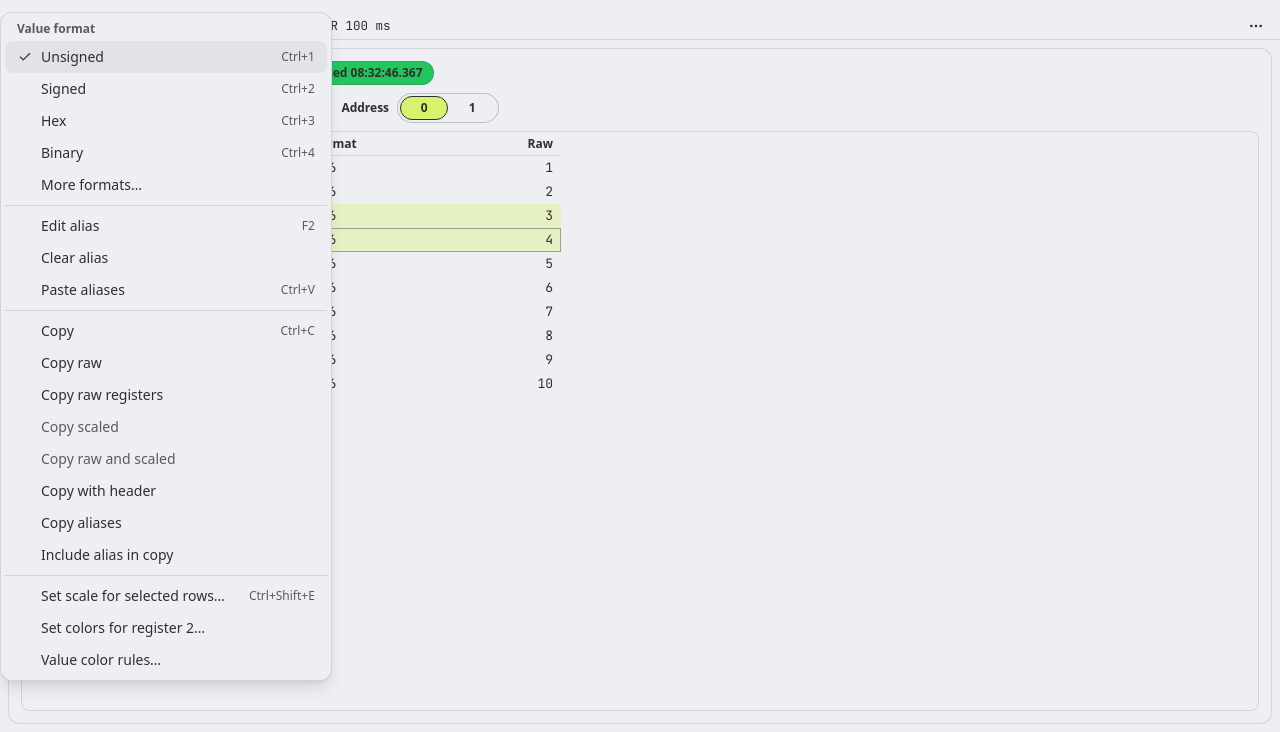
Test case: Value format section of the row menu in workspace › Hex on rows 2-3 sets the selection without a dialog and sends no Modbus request
What coordinates should you click on to do the following:
click the menu item "Hex Ctrl+3"
I would click on:
 (298, 120)
Its box is left=5, top=105, right=327, bottom=137.
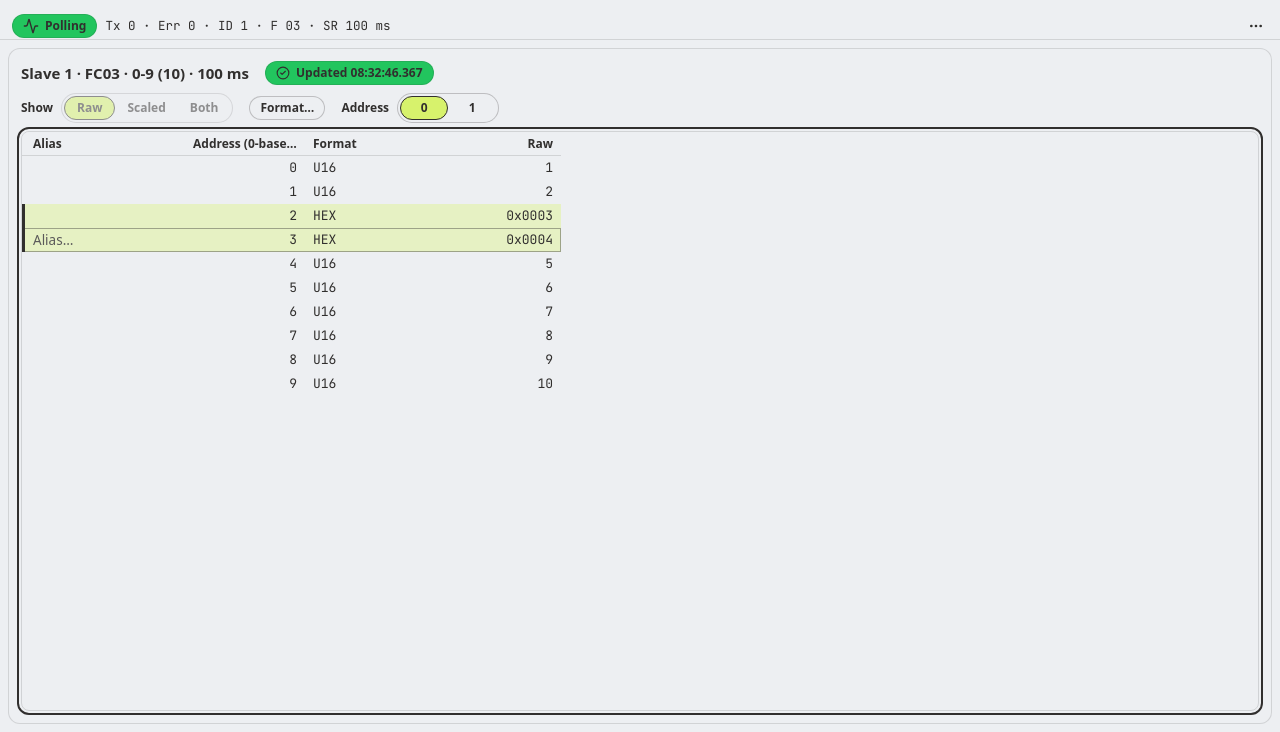
Expected: the menu is gone
